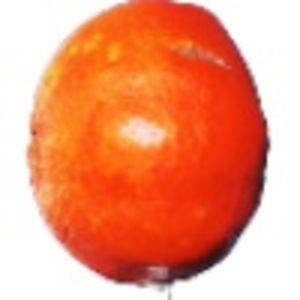tangerina: (24, 1, 272, 290)
